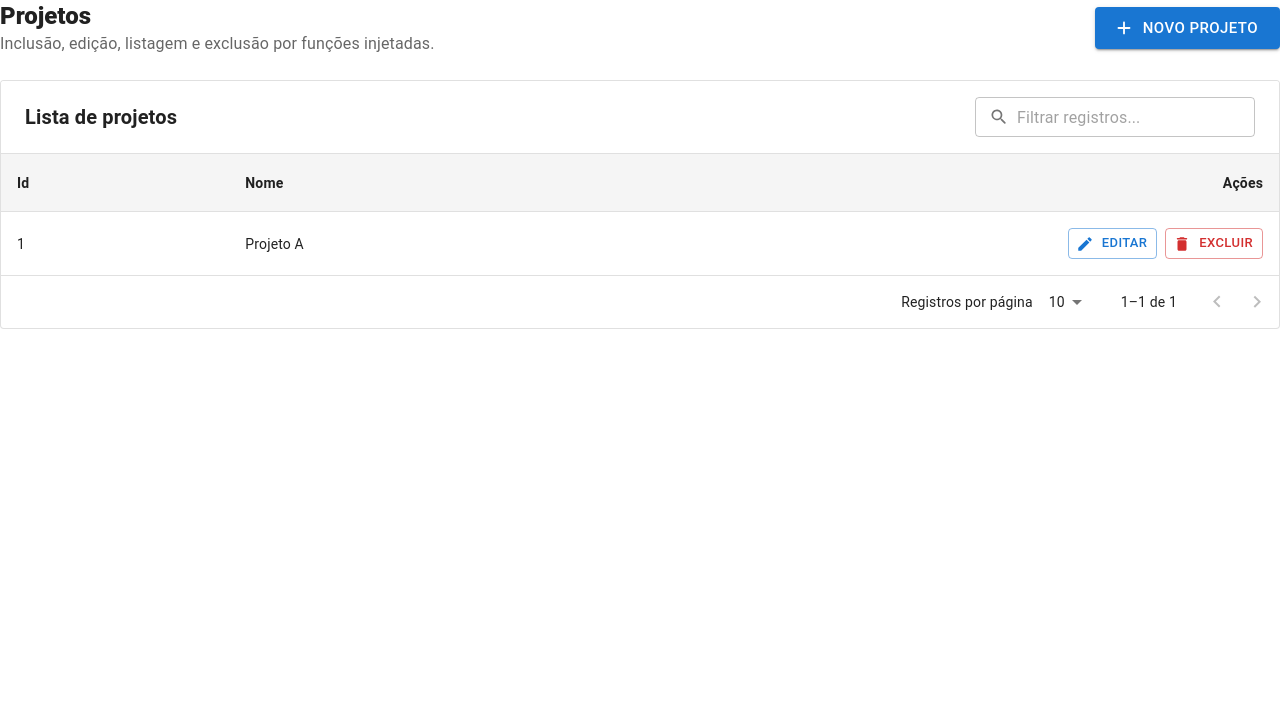
Test: Cadastro — master-detail (lista de filhos) › carrega e exibe lista de filhos filtrada por fkField
Click the button "Editar": (1113, 244) [1068, 228, 1157, 259]
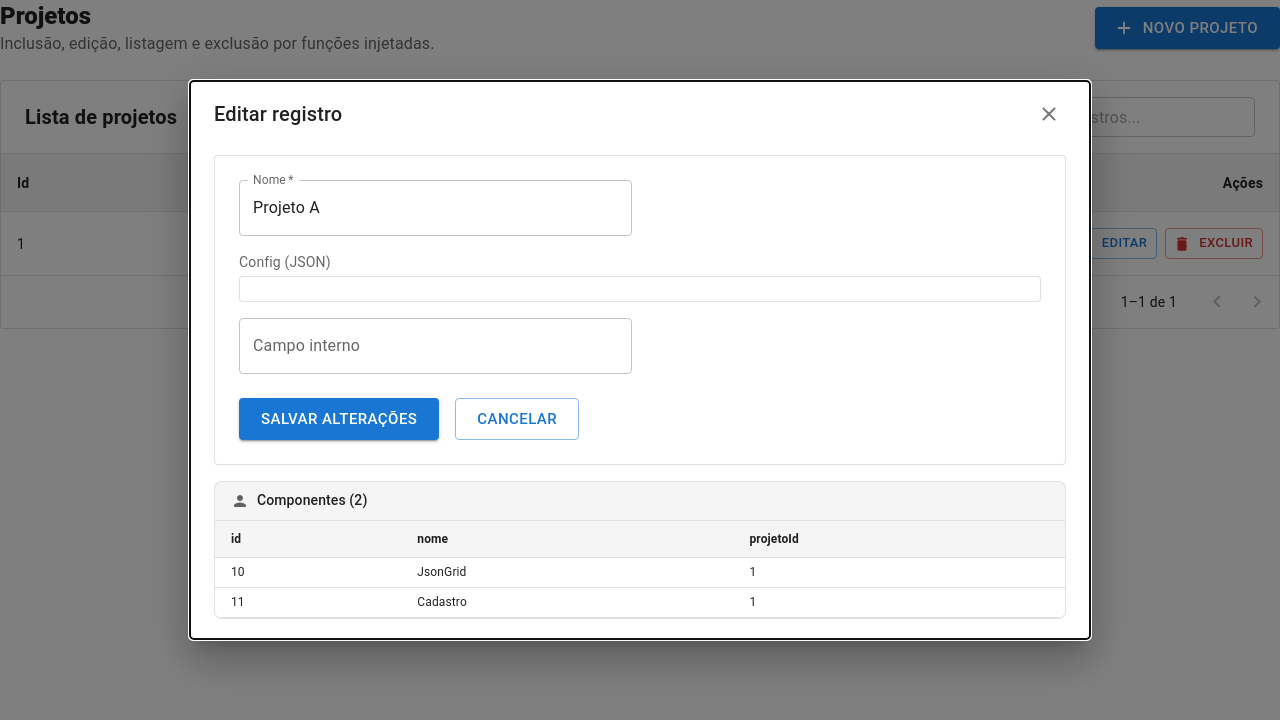
Result: the heading "Componentes (2)" is shown at [257, 490, 367, 512]
Result: the text "JsonGrid" is shown at [401, 558, 734, 588]
Result: the text "Cadastro" is shown at [401, 588, 734, 618]
